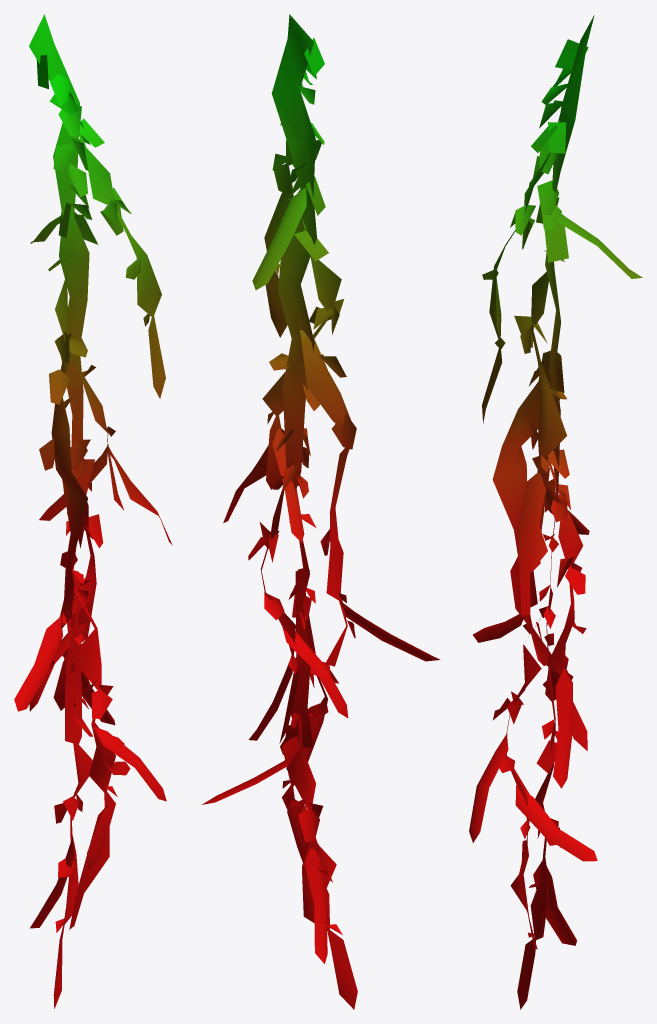
Rendered from Var8_LOD5.fbx.
3 views of the same model, side by side, from view 1: azimuth 30°, elevation 25°; view 2: azimuth 150°, elevation 25°; view 3: azimuth 270°, elevation 25° (orthographic). The views are drawn at different scales.
Parts seen in each view (by area): view 1: _3wh6_Var8_LOD5; view 2: _3wh6_Var8_LOD5; view 3: _3wh6_Var8_LOD5.
Boxes of the visible parts, x1,y1,x2,y2 form: _3wh6_Var8_LOD5: (14, 14, 172, 1008); _3wh6_Var8_LOD5: (202, 14, 440, 1009); _3wh6_Var8_LOD5: (469, 15, 642, 1009).
Size of the model in its own units: 42 by 216 by 33.81.
